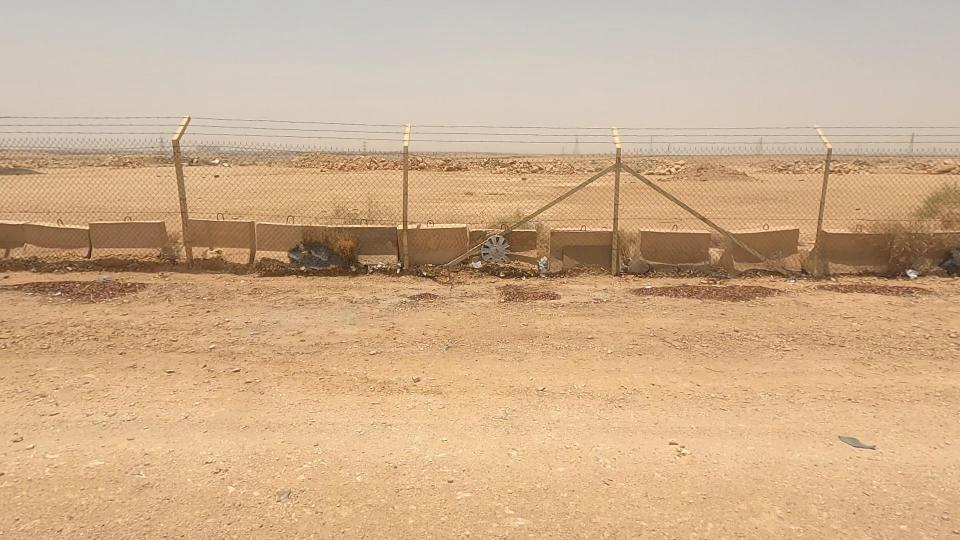GARBAGE: (231, 220, 401, 289), (433, 217, 552, 286), (881, 240, 939, 310), (517, 238, 582, 299)
